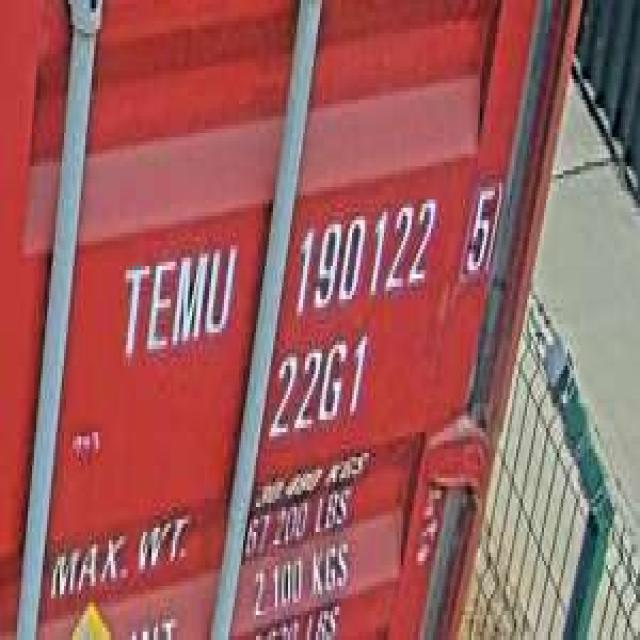dv: (461, 166, 501, 283)
owner: (115, 232, 239, 362)
serial: (290, 191, 440, 320)
size: (265, 328, 371, 441)
